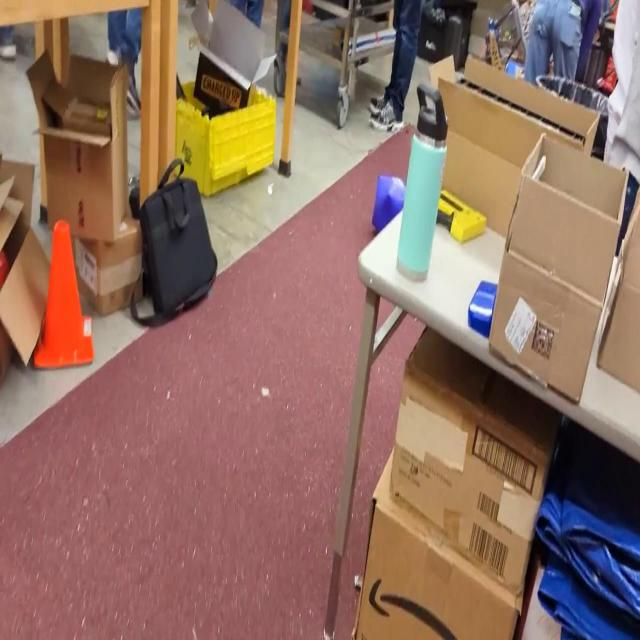frc_cube: (370, 174, 415, 248)
